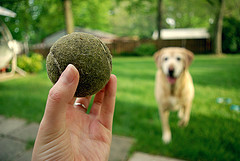tennis ball: (44, 30, 115, 98)
